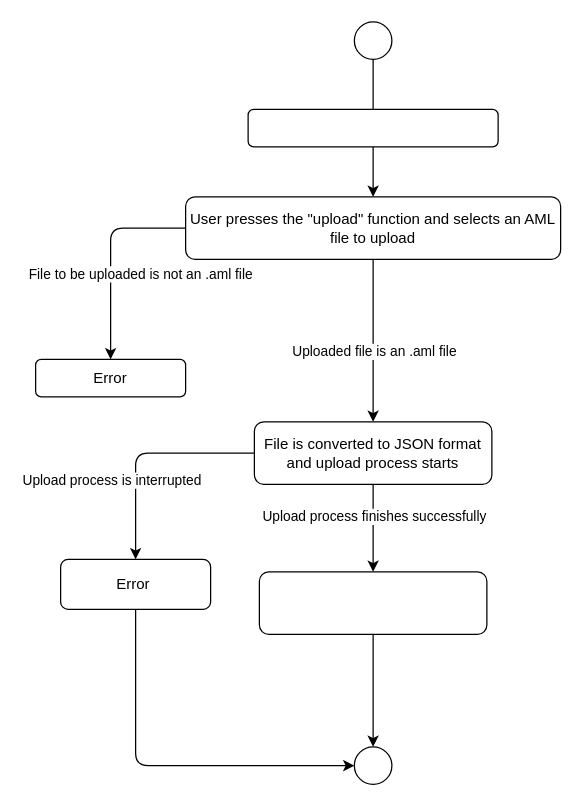
Some shapes in this 583 by 806 pixel diagram are drawn without their labels. The centre of each missing label's shape, as x and y in pixels:
"Success message is shown. File is uploaded to database" belongs at point 372,602.
"User opens the web application" belongs at point 372,127.
